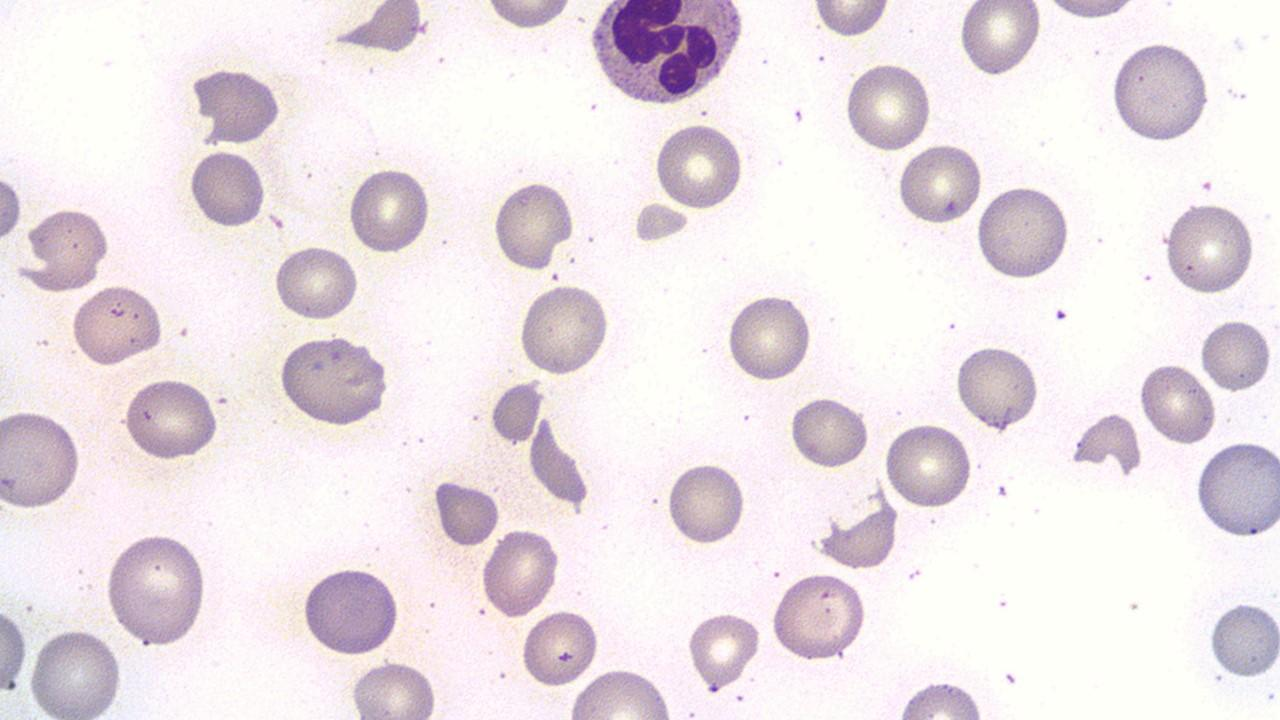RBC: (0, 225, 324, 720), (101, 527, 210, 648), (275, 332, 393, 428), (1109, 38, 1213, 144), (974, 180, 1070, 283), (301, 561, 402, 658), (1161, 200, 1259, 298), (26, 622, 126, 718), (516, 281, 612, 380), (768, 570, 868, 664), (184, 62, 289, 150), (1193, 436, 1279, 542), (842, 58, 934, 156), (0, 406, 84, 513), (122, 374, 222, 462), (14, 203, 115, 289), (653, 118, 745, 212), (882, 419, 974, 511), (724, 290, 814, 384), (68, 284, 166, 369), (812, 479, 900, 573), (492, 175, 575, 274), (953, 340, 1040, 432), (346, 163, 432, 256), (895, 141, 984, 230), (479, 525, 560, 621), (664, 458, 750, 548), (271, 240, 361, 324), (187, 144, 268, 232), (1137, 359, 1217, 447), (956, 0, 1042, 79), (520, 608, 600, 689), (1206, 595, 1280, 681), (788, 394, 870, 471), (687, 608, 762, 692), (325, 0, 428, 59), (565, 664, 676, 718), (1199, 315, 1273, 395), (1068, 409, 1144, 485), (346, 657, 441, 717), (432, 476, 499, 550), (892, 676, 990, 718), (810, 1, 894, 39), (0, 596, 29, 698), (481, 0, 576, 30), (1041, 0, 1143, 23), (0, 164, 23, 250)
WBC: (582, 0, 750, 109), (276, 330, 392, 431), (1107, 37, 1213, 147), (300, 560, 404, 658), (1192, 432, 1280, 540), (186, 63, 287, 148), (322, 0, 432, 59), (1068, 408, 1146, 484)
